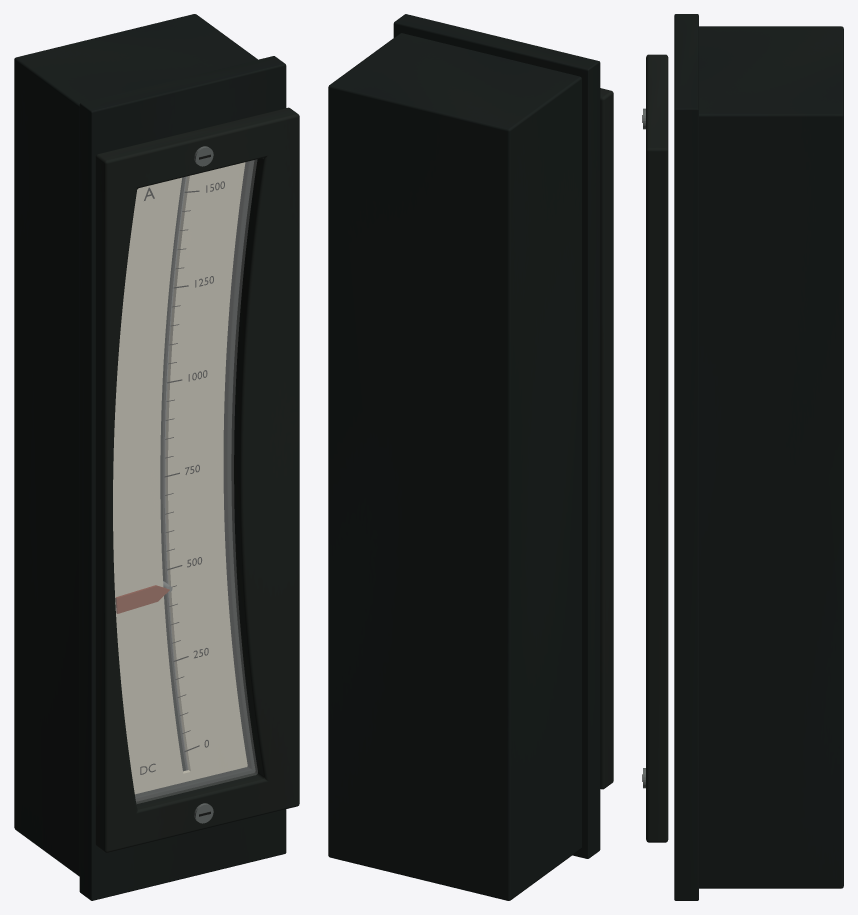
File: linear_gauge_final.glb
The picture shows the model from 3 angles, left to right: view 1: azimuth 30°, elevation 25°; view 2: azimuth 150°, elevation 25°; view 3: azimuth 270°, elevation 25°; orthographic projection.
Visible parts, largest first — view 1: Fixed_Protective_Glass, Fixed_Raised_Metal_Bezel, Fixed_Rear_Housing, Fixed_Scale_Window, Fixed_Front_Frame, Fixed_Curved_Guide_Rail.001, Moving_Wide_Pointer; view 2: Fixed_Rear_Housing, Fixed_Front_Frame, Fixed_Raised_Metal_Bezel; view 3: Fixed_Rear_Housing, Fixed_Front_Frame, Fixed_Raised_Metal_Bezel.
Boxes of the visible parts, x1,y1,x2,y2 form: Fixed_Protective_Glass: (113,160,257,803); Fixed_Raised_Metal_Bezel: (95,107,299,852); Fixed_Rear_Housing: (14,14,257,876); Fixed_Scale_Window: (113,162,247,794); Fixed_Front_Frame: (79,56,286,900); Fixed_Curved_Guide_Rail.001: (162,176,188,770); Moving_Wide_Pointer: (115,585,169,613); Fixed_Rear_Housing: (328,33,581,900); Fixed_Front_Frame: (393,14,600,858); Fixed_Raised_Metal_Bezel: (600,88,613,789); Fixed_Rear_Housing: (699,26,843,888); Fixed_Front_Frame: (674,14,698,900); Fixed_Raised_Metal_Bezel: (646,54,668,842).
Size of the model in its own units: 0.046 by 0.178 by 0.0411.
Materials: 7 (3 with a texture image).
